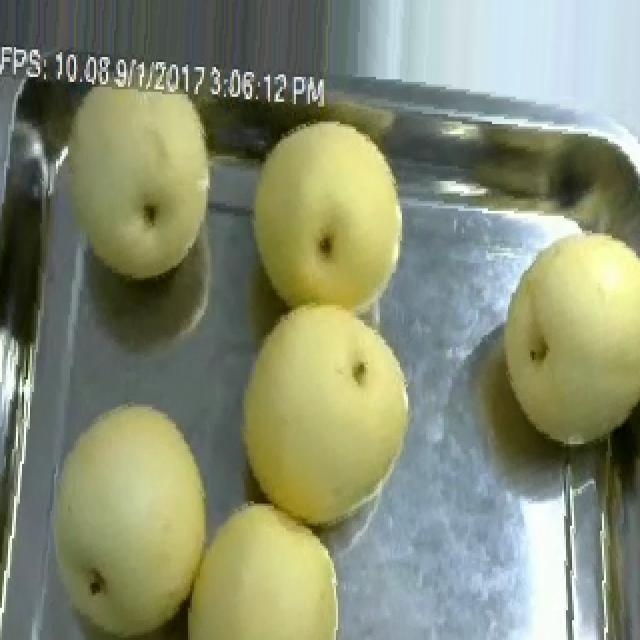Fruit: (222, 288, 426, 543), (26, 384, 228, 640), (38, 50, 226, 295), (476, 211, 640, 464), (236, 107, 418, 330), (164, 486, 358, 640)
